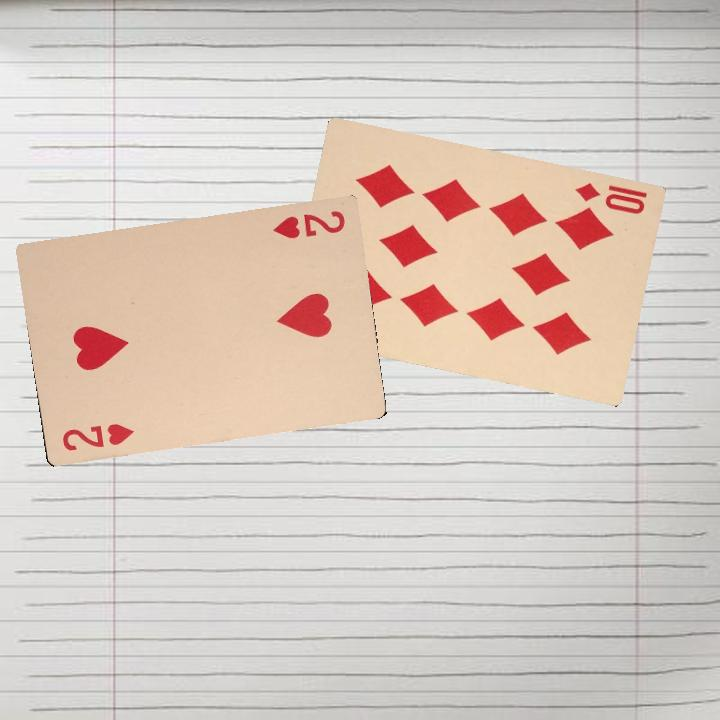10d: (570, 178, 652, 217)
2h: (269, 206, 348, 242), (58, 419, 136, 454)
